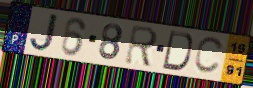6: (60, 16, 88, 57)
8: (98, 22, 124, 61)
C: (192, 36, 226, 76)
D: (160, 30, 194, 73)
J: (28, 12, 60, 53)
R: (123, 24, 160, 69)
